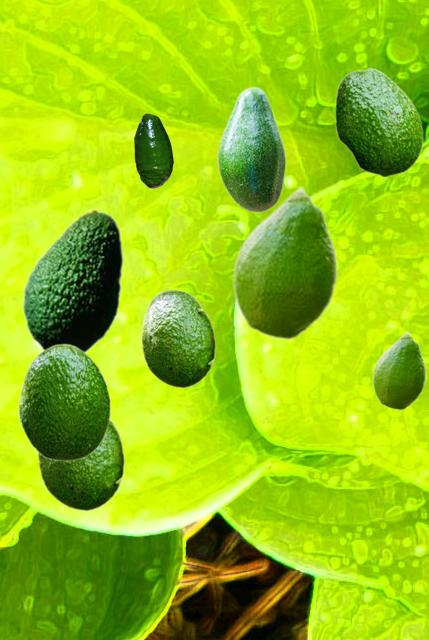avocado: (232, 184, 337, 339), (22, 209, 122, 353), (18, 343, 110, 460), (334, 67, 422, 176), (216, 86, 285, 212), (36, 419, 124, 510), (140, 289, 215, 387), (372, 330, 425, 409), (134, 113, 172, 187)
